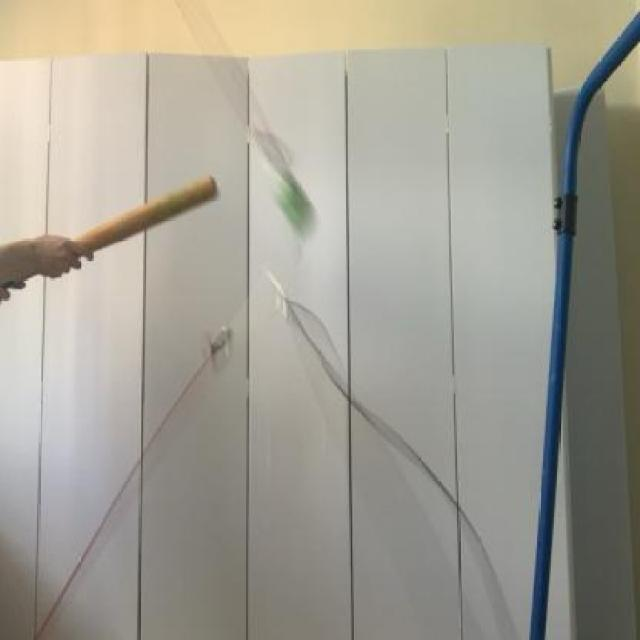baseball: (261, 161, 328, 250)
